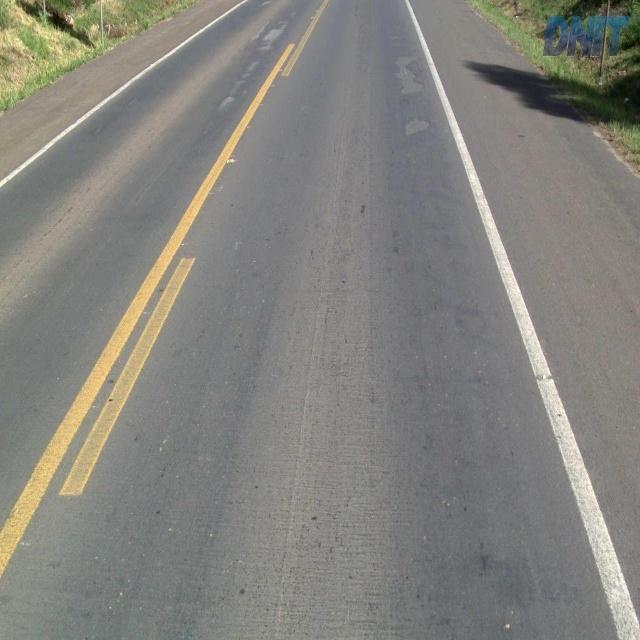pothole: (390, 50, 429, 99), (398, 112, 433, 139)
